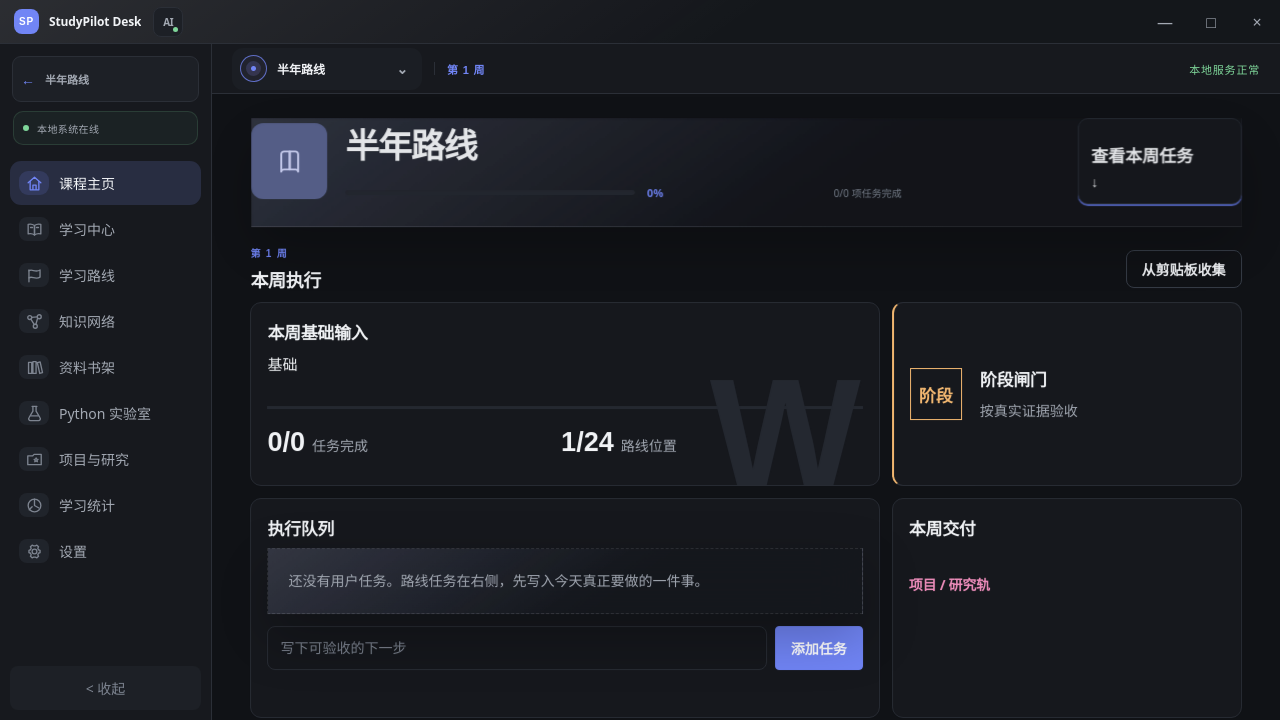
it: keeps a newly created course available when its first activation fails
Expected: the heading "本周执行" is shown, [250,266,321,292]
Click the button with aria-label "当前课程".
click(327, 68)  # box [232,48,422,90]
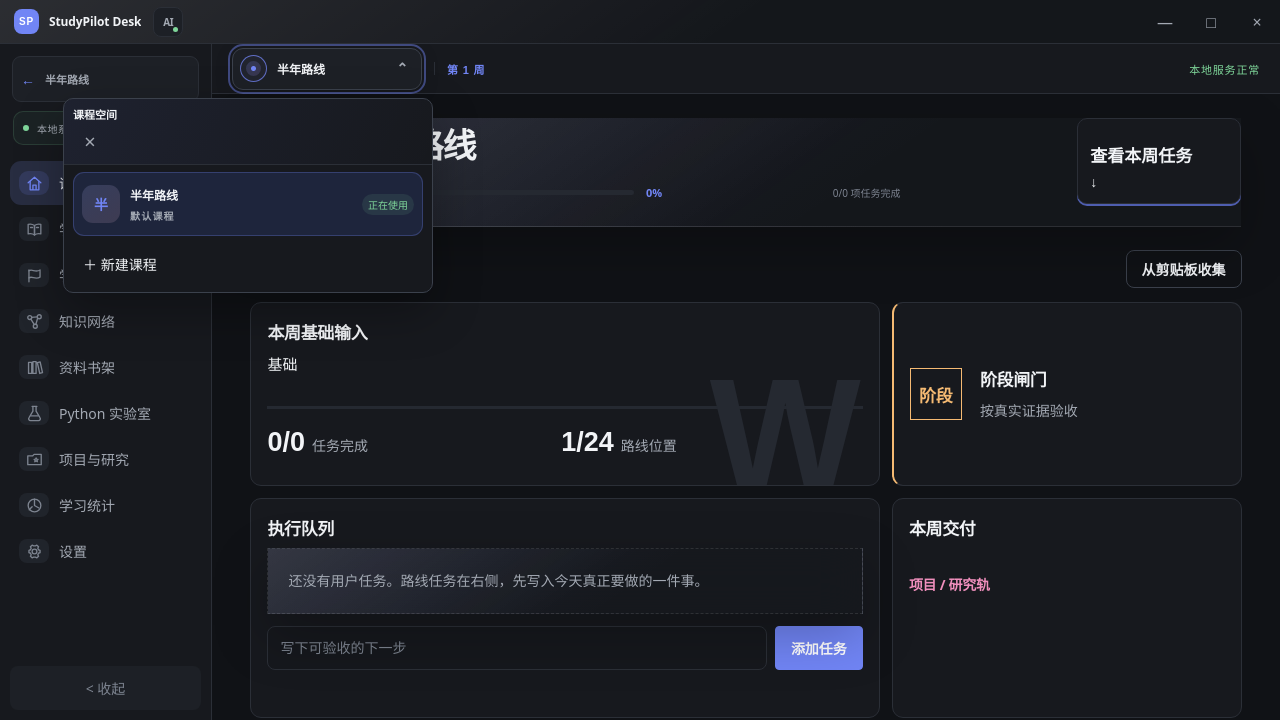
Click the button "＋ 新建课程".
click(120, 264)  # box [73,244,441,282]
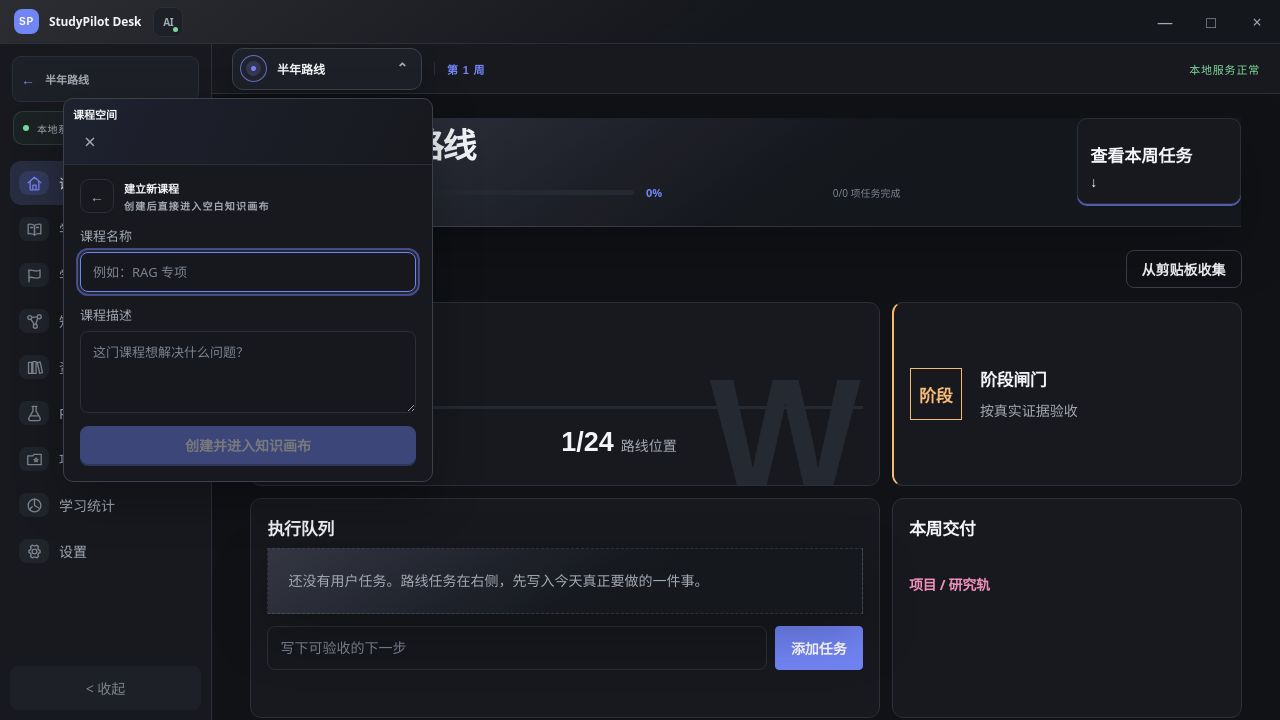
Type "RAG 专项" into the field labelled "课程名称".
click(248, 272); type("RAG 专项")  # box [80,252,416,292]
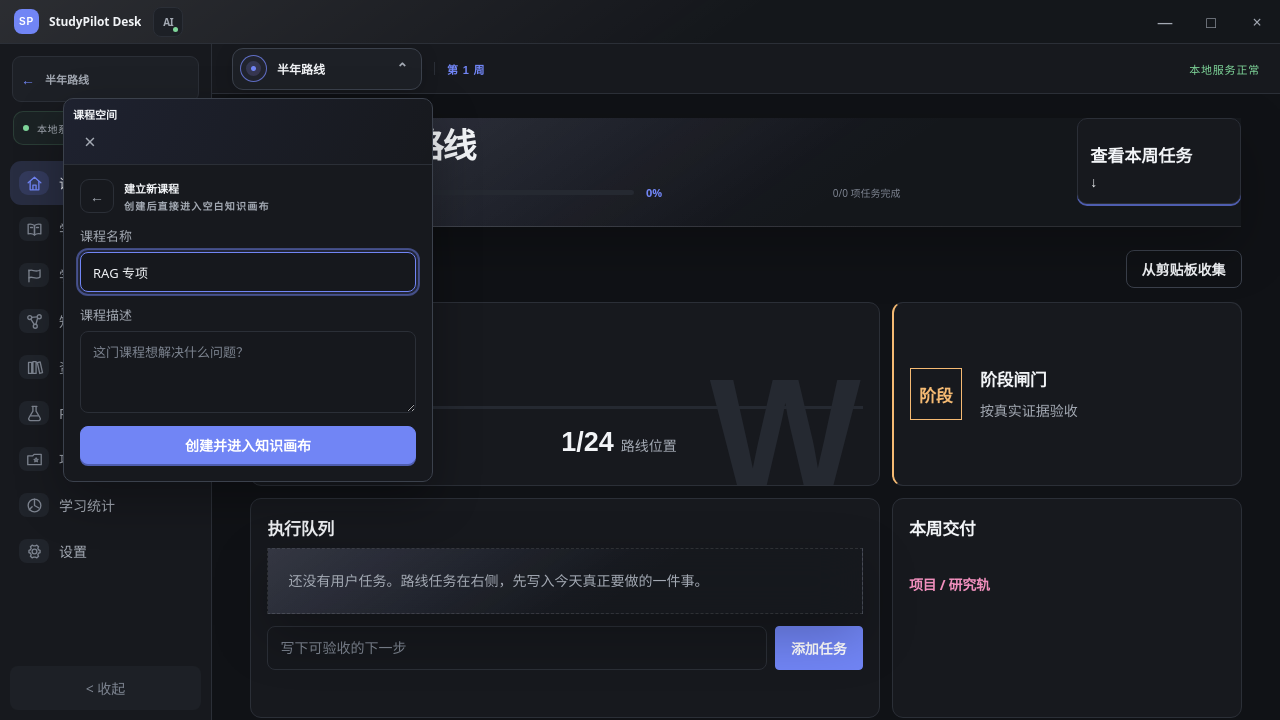
Type "检索课程" into the text box labelled "课程描述".
click(248, 372); type("检索课程")  # box [80,330,416,412]
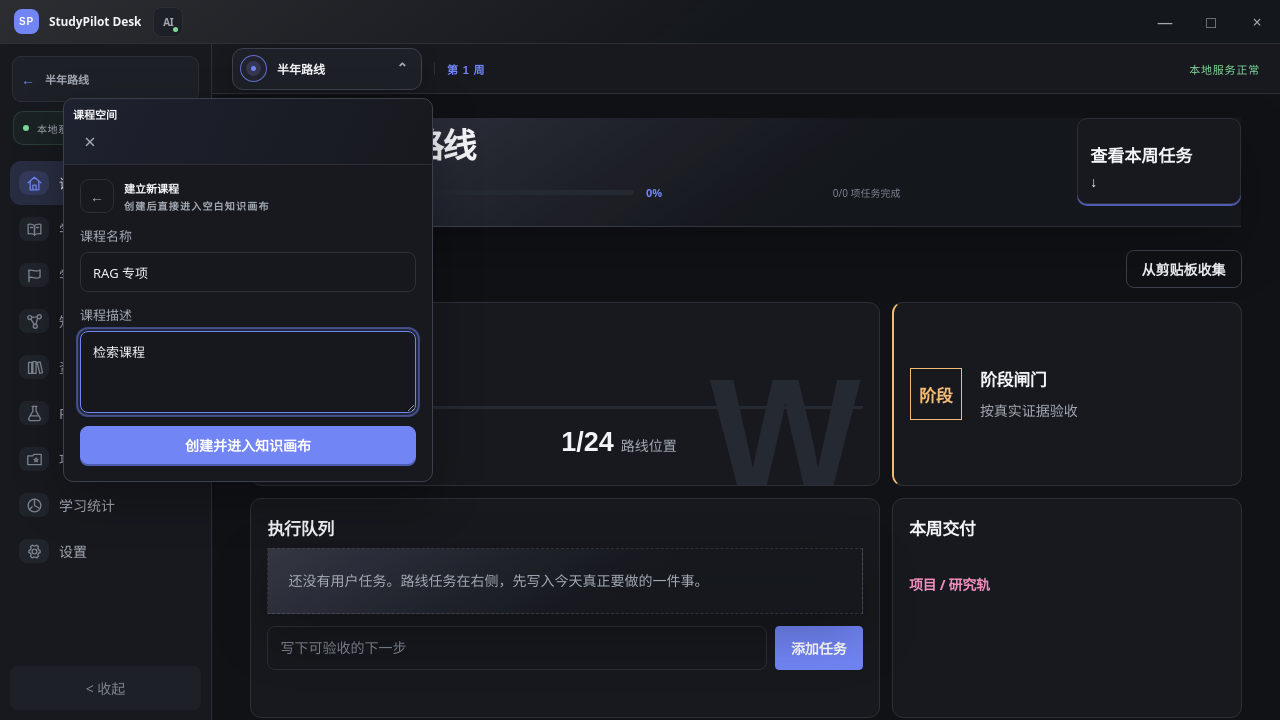
Click the button "创建并进入知识画布".
click(248, 444)  # box [80,426,416,464]
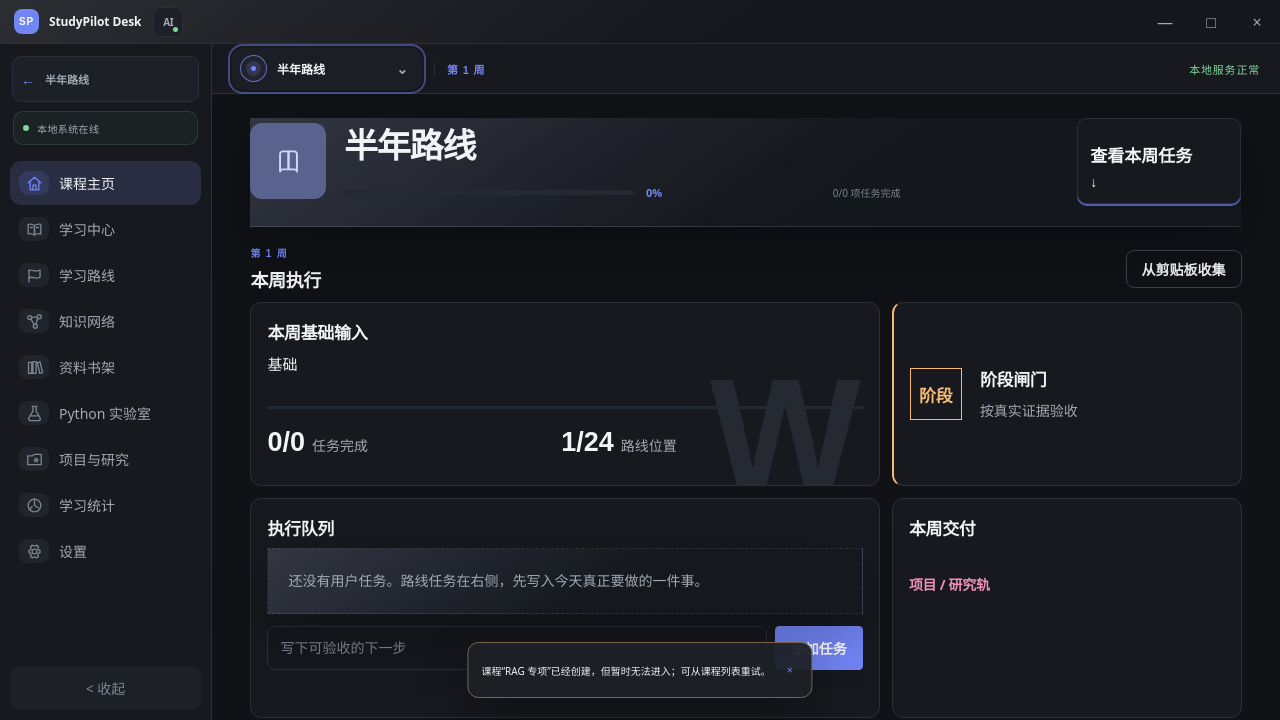
Result: the message shows "课程“RAG 专项”已经创建" at [481,664,771,678]
Result: the text "课程空间" is gone
Click the button with aria-label "当前课程".
click(327, 68)  # box [232,48,422,90]
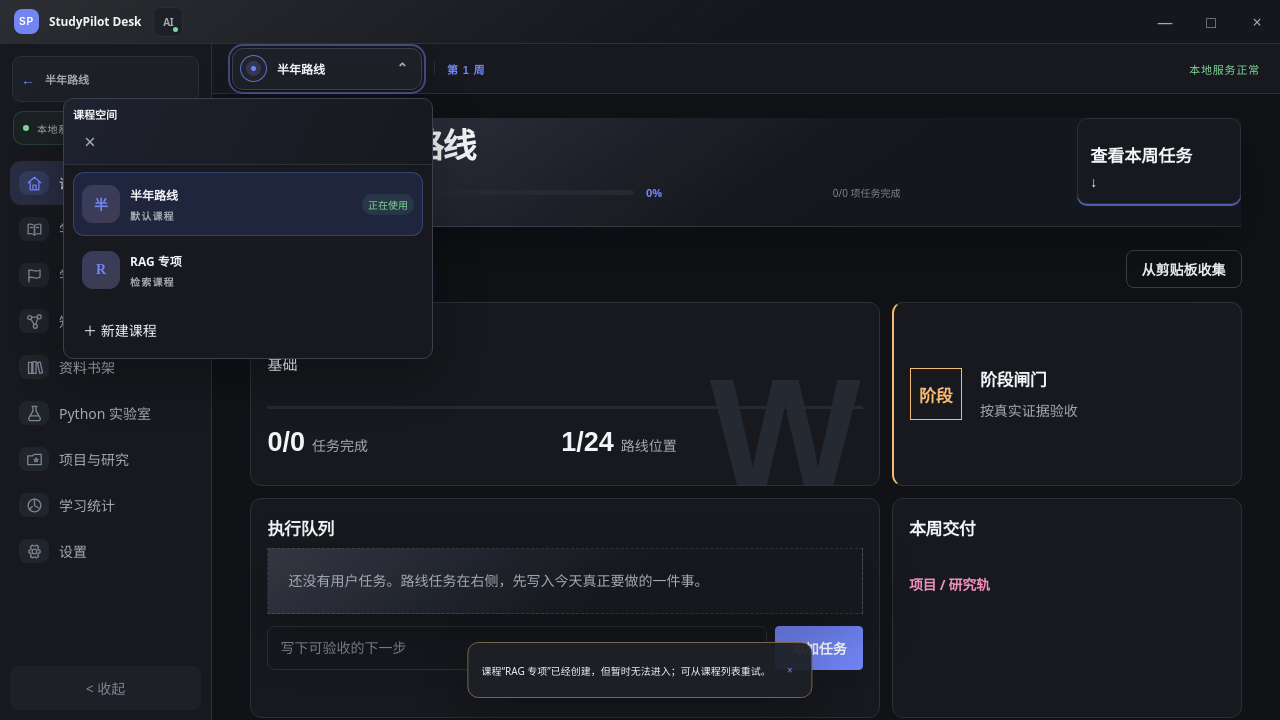
Result: the button with aria-label "切换到 RAG 专项" is shown at [73,238,423,302]
